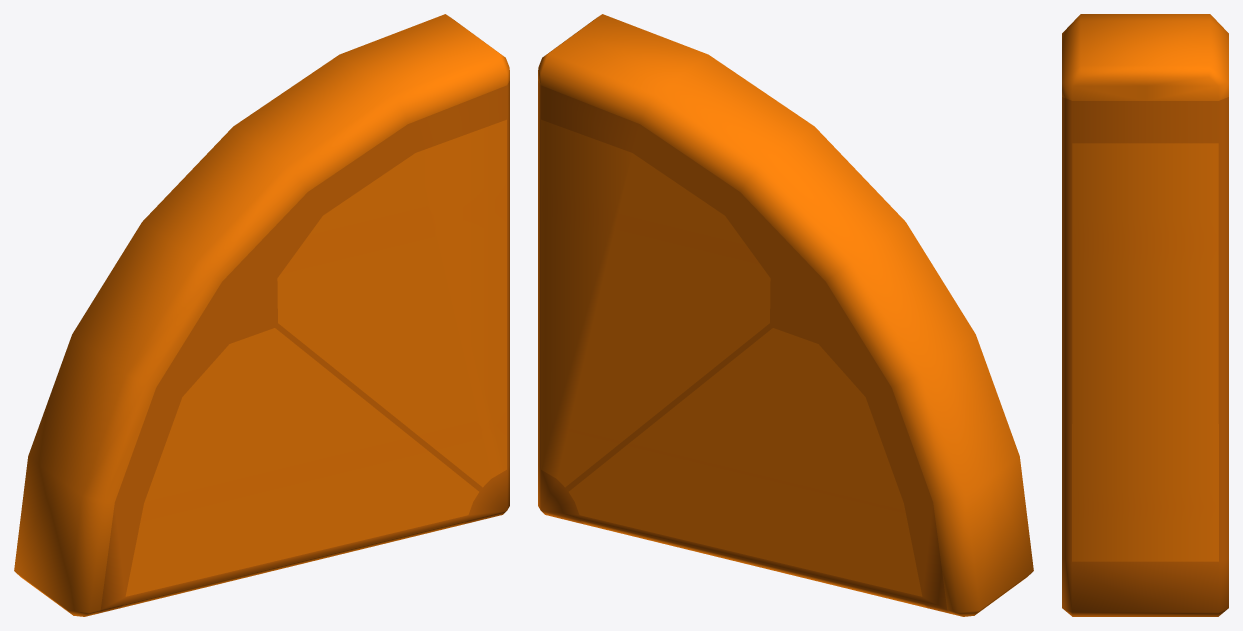
File: Quarter_of_a_lime.fbx
3 views of the same model, side by side, from view 1: azimuth 30°, elevation 25°; view 2: azimuth 150°, elevation 25°; view 3: azimuth 270°, elevation 25° (orthographic). The views are drawn at different scales.
Visible parts, largest first — view 1: Quarter_of_a_lime; view 2: Quarter_of_a_lime; view 3: Quarter_of_a_lime.
Part boxes in pixels (x1,y1,x2,y2): Quarter_of_a_lime: (14,14,509,616); Quarter_of_a_lime: (538,14,1033,616); Quarter_of_a_lime: (1062,14,1228,616).
Size of the model in its own units: 41.79 by 41.81 by 11.46.
